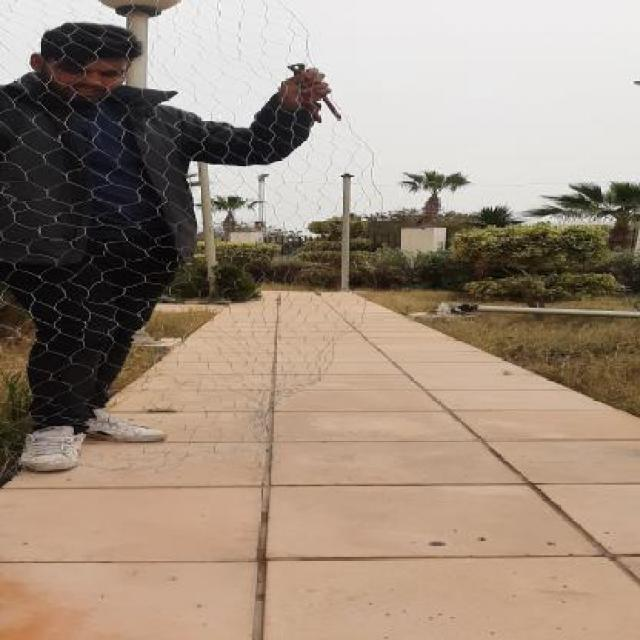fence line: (289, 14, 628, 440)
